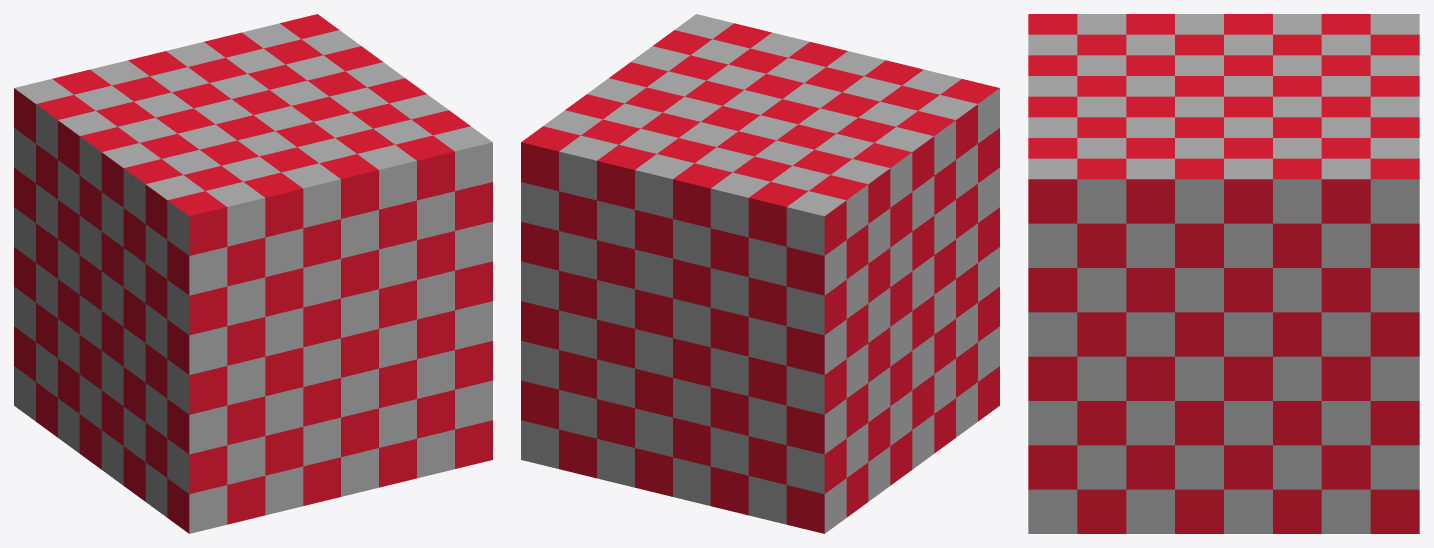
Rendered from checkerbox.fbx.
3 views of the same model, side by side, from view 1: azimuth 30°, elevation 25°; view 2: azimuth 150°, elevation 25°; view 3: azimuth 270°, elevation 25° (orthographic). The views are drawn at different scales.
Visible parts, largest first — view 1: Cube; view 2: Cube; view 3: Cube.
Part boxes in pixels (<box>): Cube: <box>14,14,492,533</box>; Cube: <box>521,14,999,533</box>; Cube: <box>1028,14,1419,533</box>.
Size of the model in its own units: 1 by 1 by 1.
